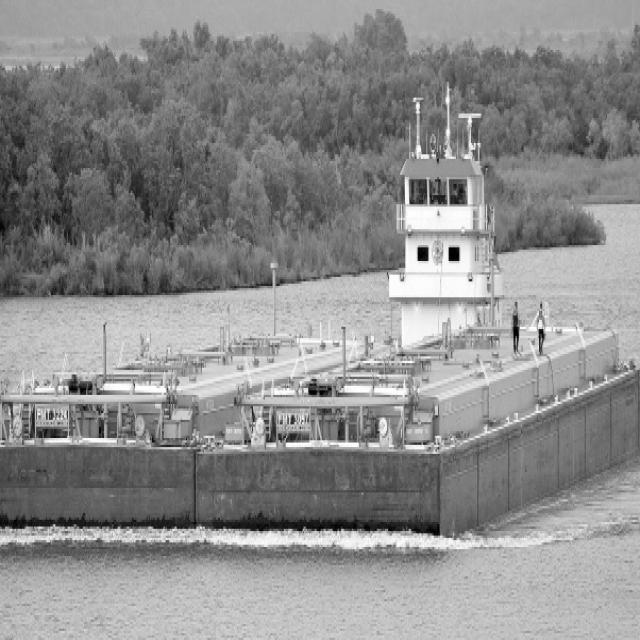tugboat: (358, 74, 540, 480)
